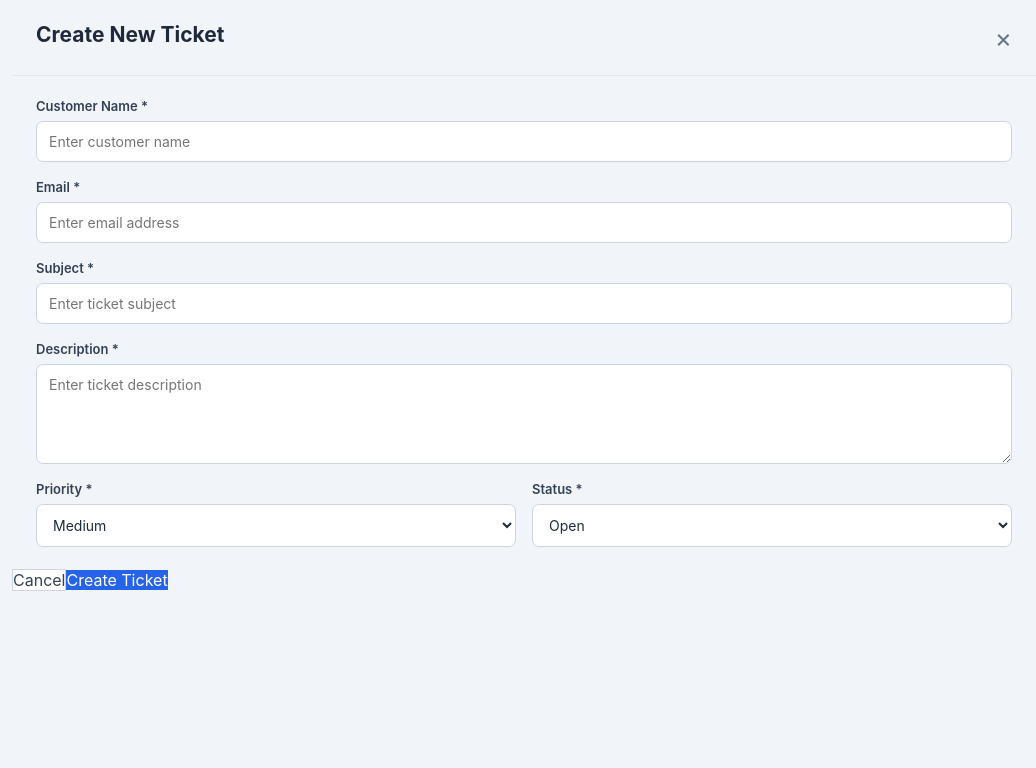
Test: TicketForm › shows an error when submission fails
Type "John Smith" into the field with placeholder "Enter customer name" at (524, 142), box [36,121,1012,162]
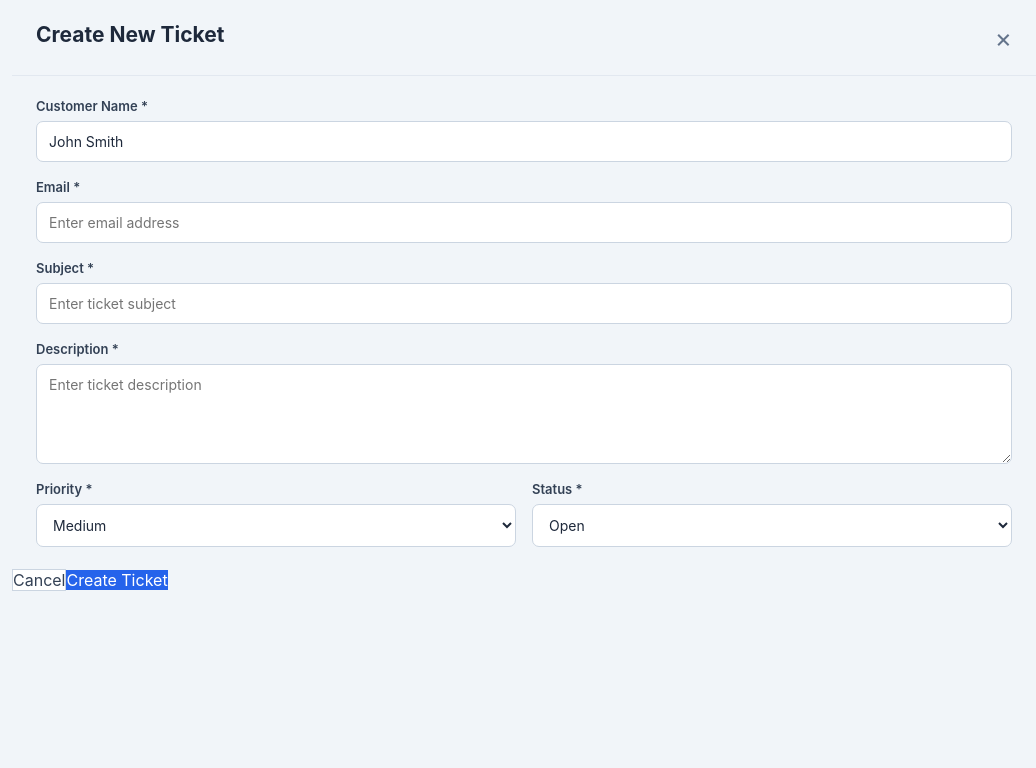
Type "john@example.com" into the field with placeholder "Enter email address" at (524, 222), box [36,202,1012,243]
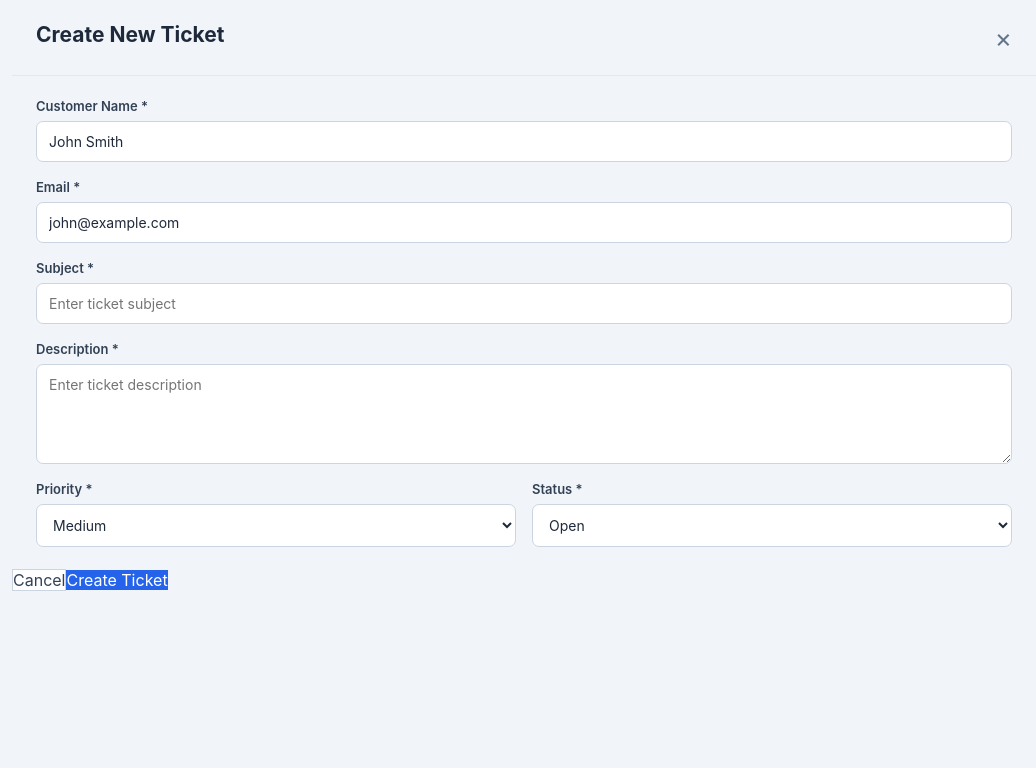
Type "Payment issue" into the field with placeholder "Enter ticket subject" at (524, 304), box [36,283,1012,324]
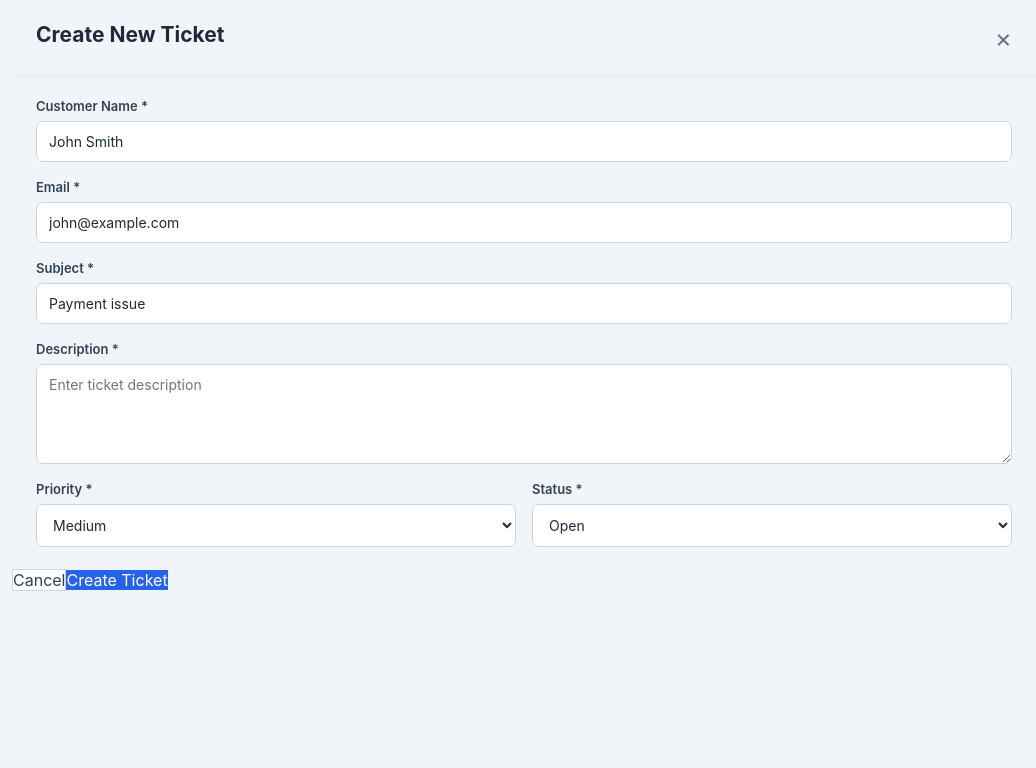
Type "Unable to complete the payment transaction" into the text box with placeholder "Enter ticket description" at (524, 414), box [36,364,1012,464]
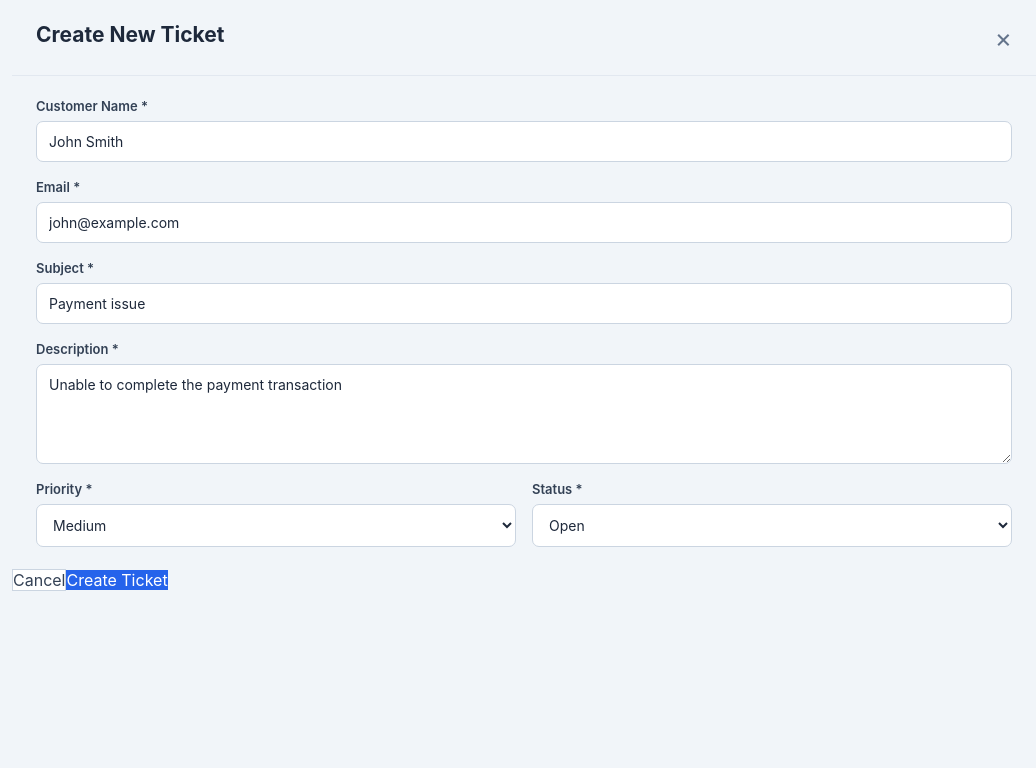
Click the button "Create Ticket" at (117, 580), box [66,570,168,590]
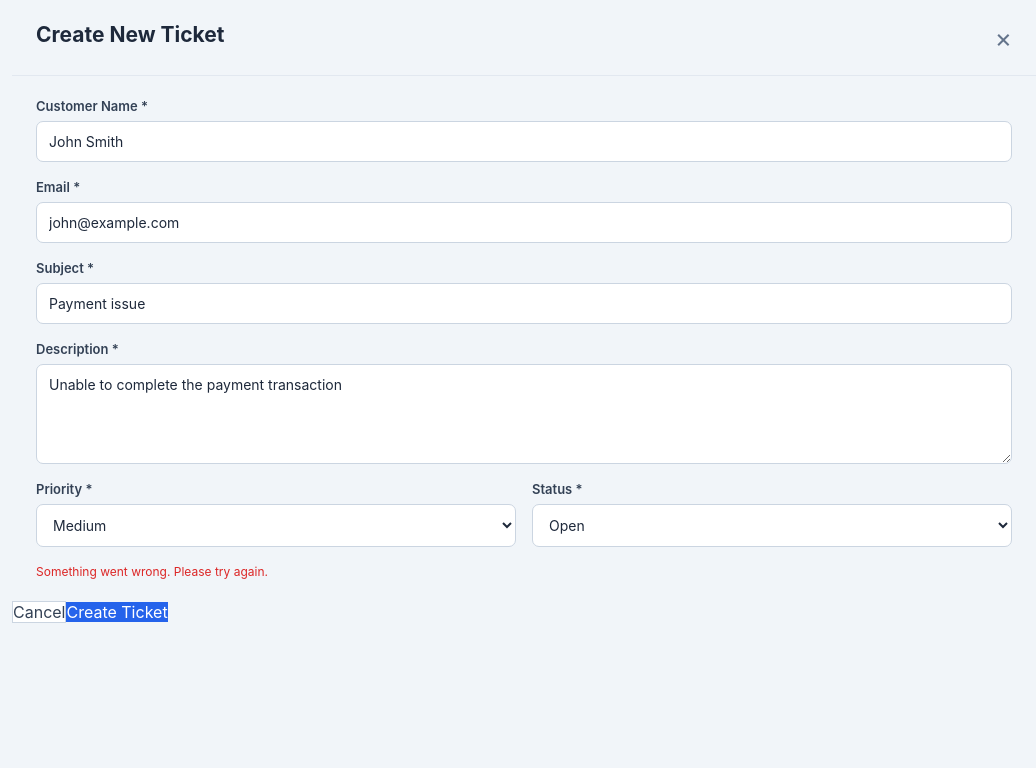
Check: the text "Something went wrong. Please try again." is shown, box [36,564,268,579]
